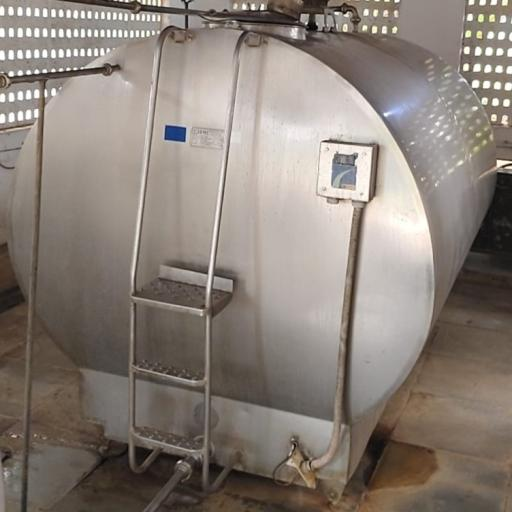silo: (2, 12, 499, 483)
